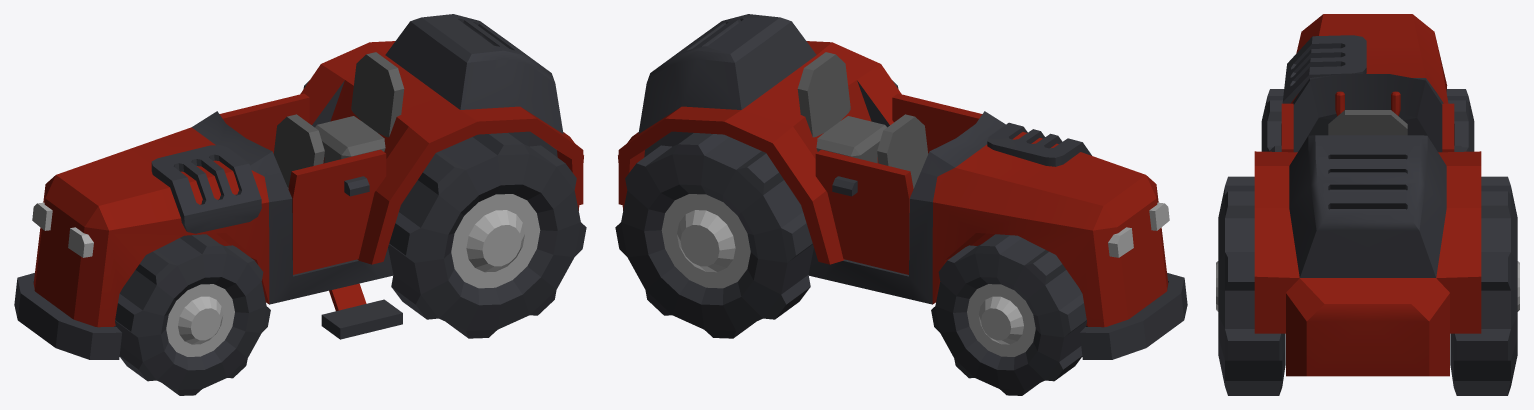
The model's file is TraktoletUnUnDone.fbx.
3 views of the same model, side by side, from view 1: azimuth 30°, elevation 25°; view 2: azimuth 150°, elevation 25°; view 3: azimuth 270°, elevation 25° (orthographic). The views are drawn at different scales.
Visible parts, largest first — view 1: Base, Wheels, Doors, Chairs, Plate, Front, Step, Light; view 2: Base, Wheels, Doors, Chairs, Front, Plate, Light; view 3: Base, Wheels, Plate, Chairs, Doors, Drive.
Part boxes in pixels (<box>): Base: <box>33,14,583,327</box>; Wheels: <box>114,80,586,395</box>; Doors: <box>219,93,386,274</box>; Chairs: <box>273,52,404,188</box>; Plate: <box>151,145,261,233</box>; Front: <box>14,273,121,359</box>; Step: <box>321,283,402,339</box>; Light: <box>32,202,93,257</box>; Base: <box>618,14,1168,327</box>; Wheels: <box>615,80,1087,395</box>; Doors: <box>815,93,982,274</box>; Chairs: <box>797,52,928,188</box>; Front: <box>1080,273,1187,359</box>; Plate: <box>987,122,1091,166</box>; Light: <box>1108,202,1169,257</box>; Base: <box>1254,14,1481,376</box>; Wheels: <box>1216,89,1519,395</box>; Plate: <box>1282,35,1366,103</box>; Chairs: <box>1328,110,1407,135</box>; Doors: <box>1269,103,1466,152</box>; Drive: <box>1335,91,1400,116</box>.
Bounding box in the file's own units: 7.9 × 3.68 × 3.83.
